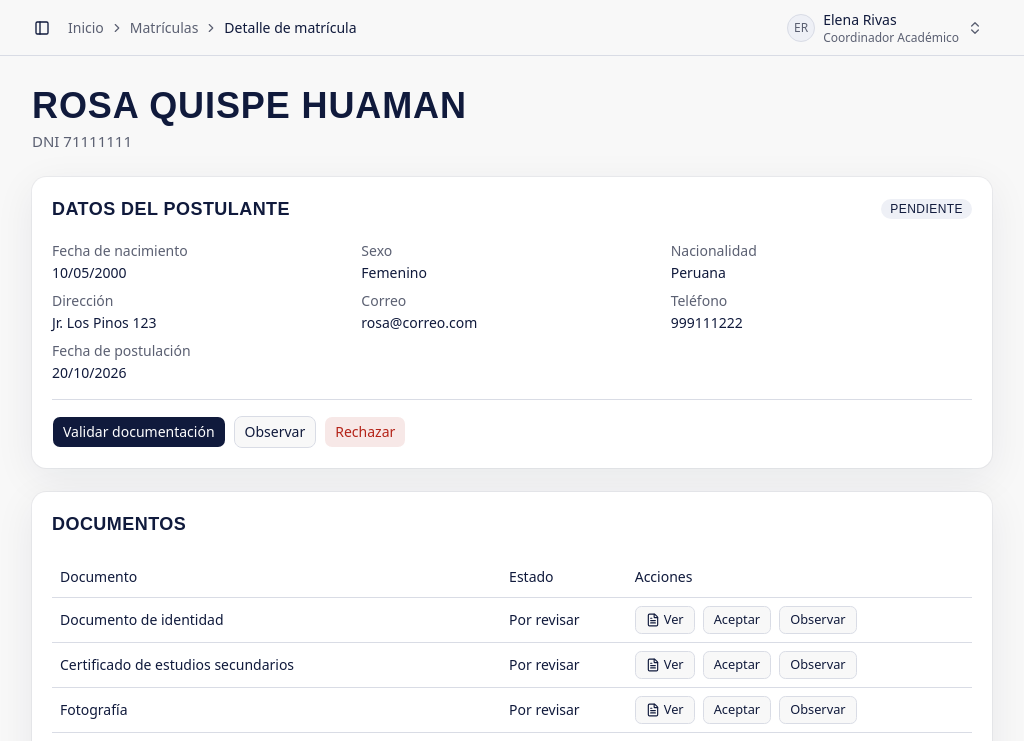
Test: Admisión desde el detalle de la postulación › observar un documento deja la postulación observada con su observación
Expected: the heading "Documentos" is shown, [52,514,186,534]
Click the button named "Observar Fotografía". click: [818, 710]
box: [779,696,857,724]
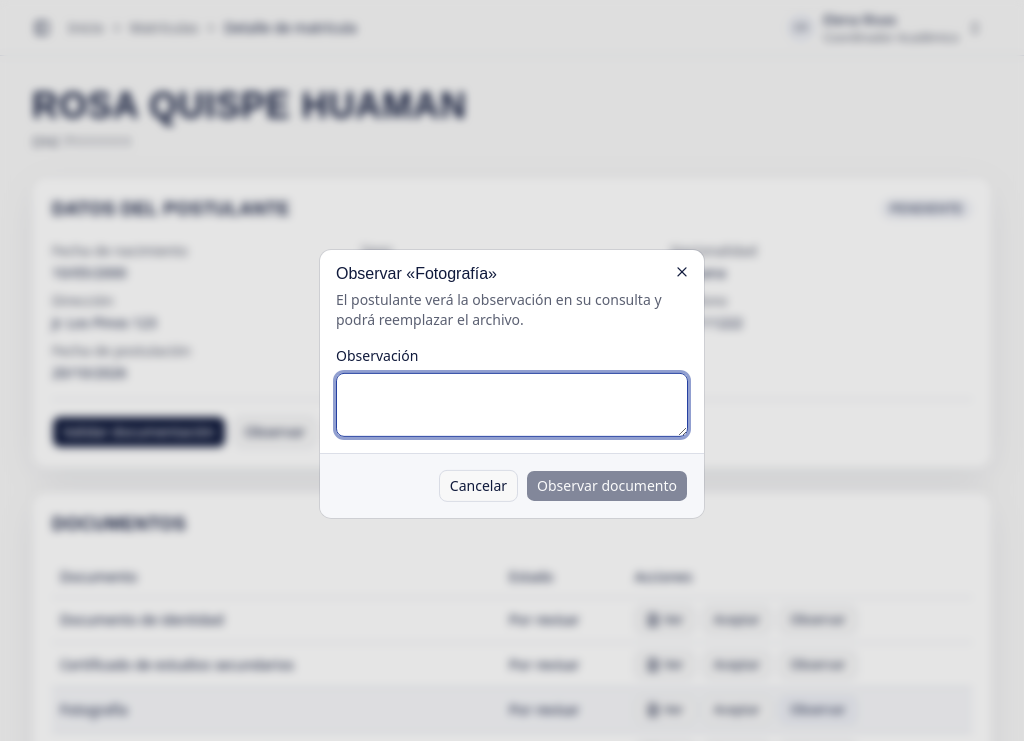
Type "Foto borrosa" into the text box labelled "Observación". click: [512, 405]
box: [336,373,688,437]
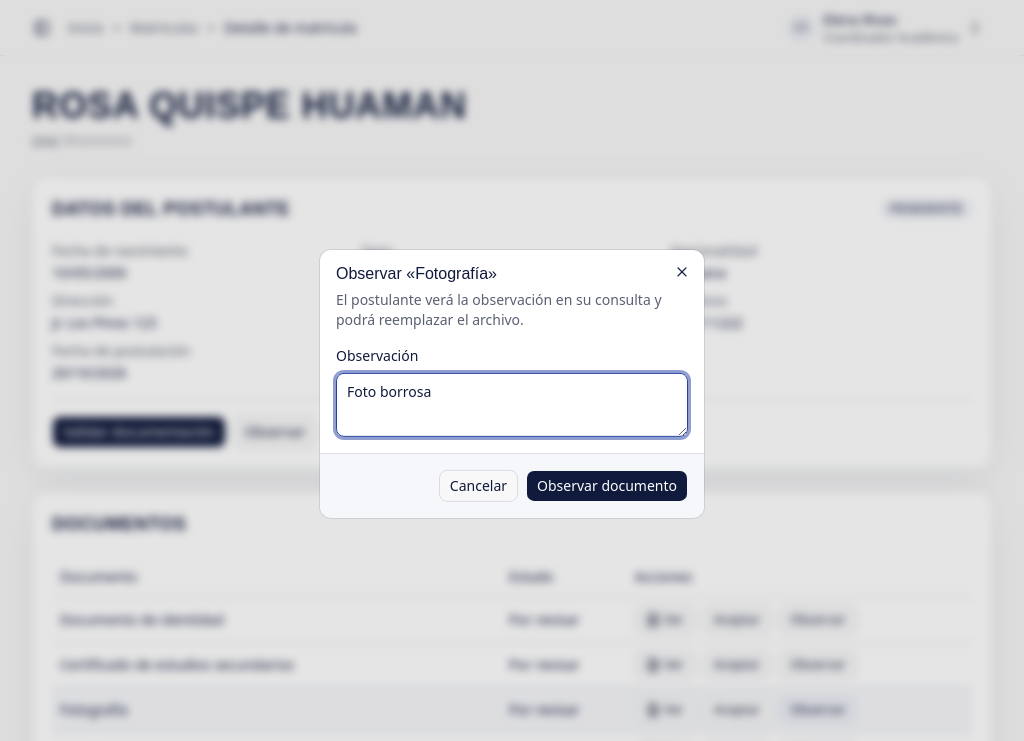
Click the button "Observar documento". click: [607, 486]
box: [526,470,688,502]
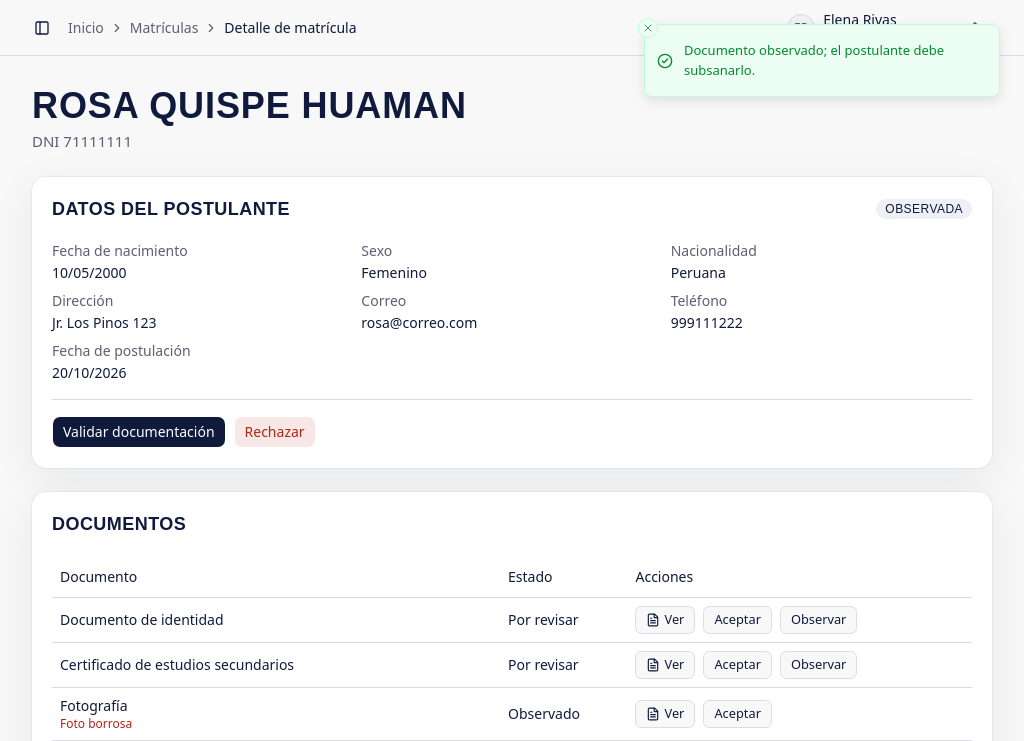
Expected: the text "Foto borrosa" is shown, [60,714,132,732]
Expected: the text "Observada" is shown, [876,199,972,219]
